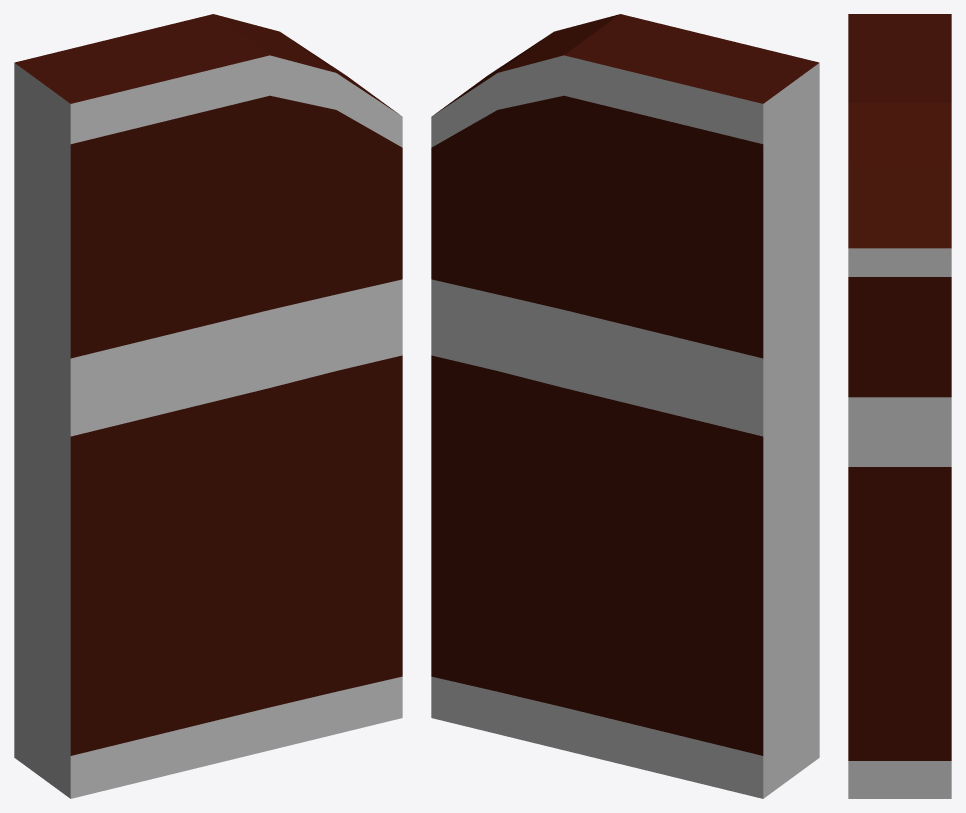
Rendered from gate_door.obj.
The picture shows the model from 3 angles, left to right: view 1: azimuth 30°, elevation 25°; view 2: azimuth 150°, elevation 25°; view 3: azimuth 270°, elevation 25°; orthographic projection. The views are drawn at different scales.
Parts seen in each view (by area): view 1: gate_door; view 2: gate_door; view 3: gate_door.
Boxes of the visible parts, left/top/right/bottom form: gate_door: left=14, top=14, right=402, bottom=798; gate_door: left=431, top=14, right=819, bottom=798; gate_door: left=848, top=14, right=951, bottom=798.
Bounding box in the file's own units: 0.4522 × 0.9044 × 0.1333.
